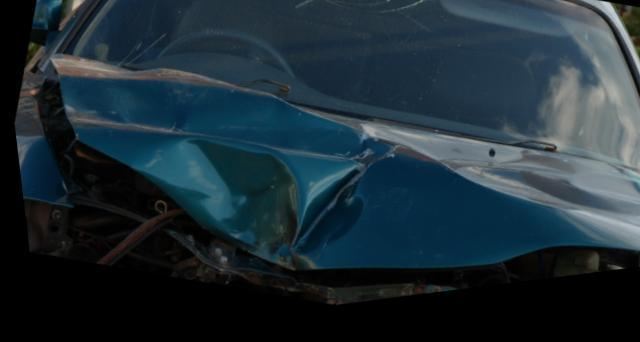dent: (56, 72, 640, 280)
glass shatter: (61, 0, 640, 194)
